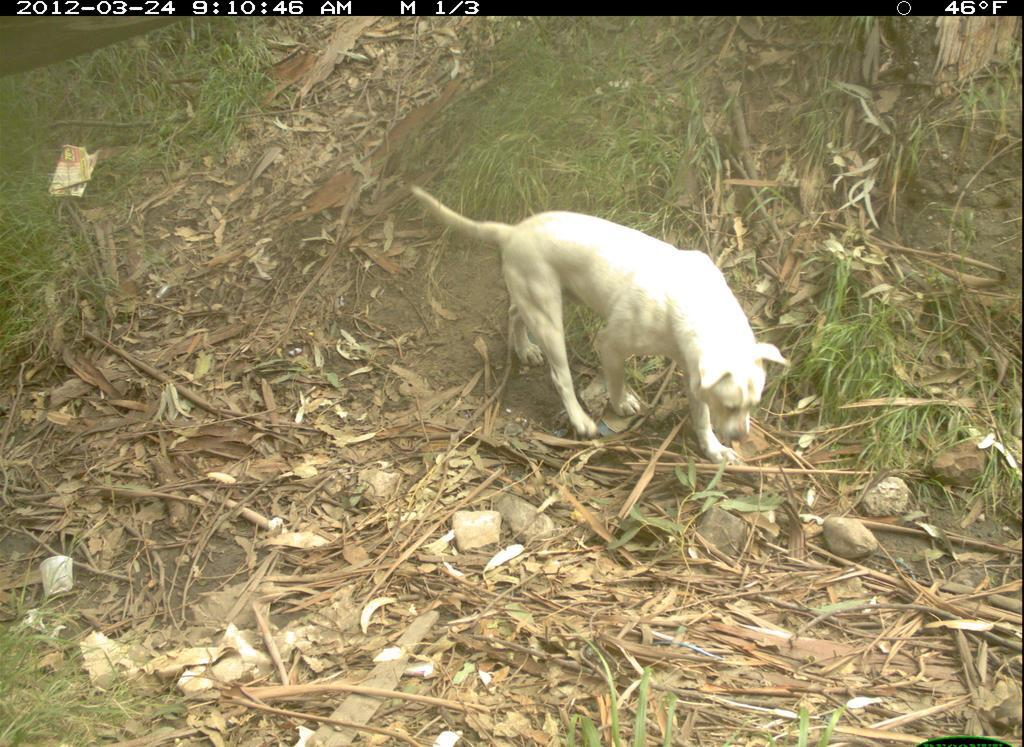dog: (396, 173, 799, 475)
